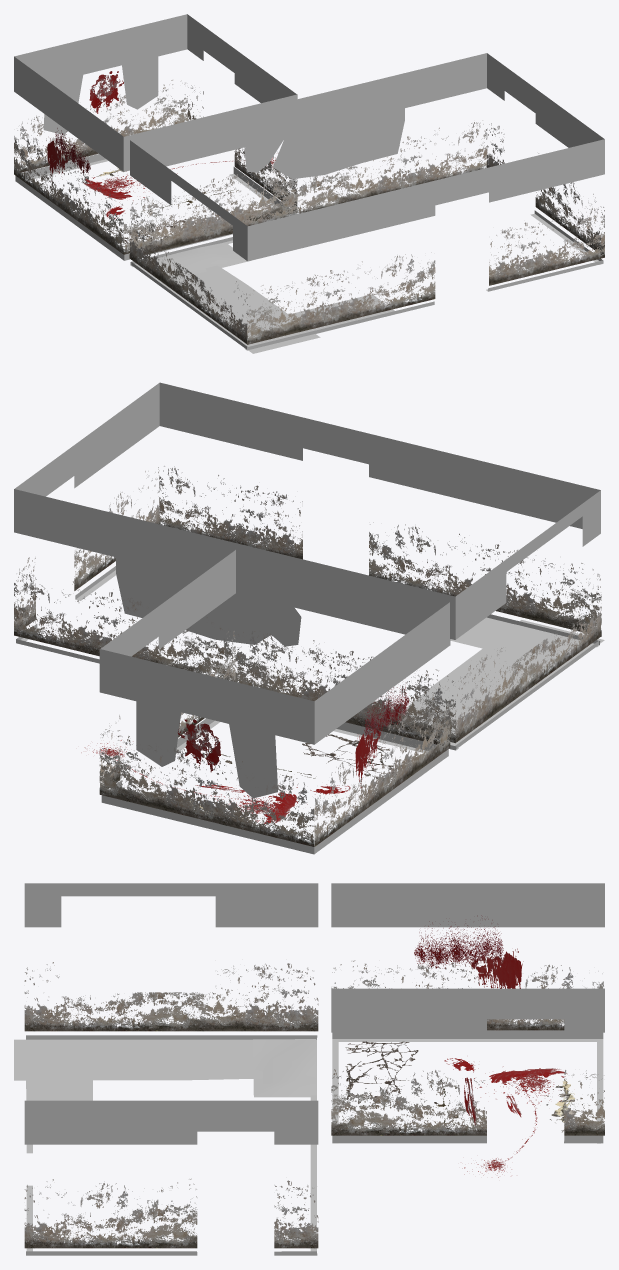
File: RoofArea02_Decals.FBX
3 renders of one model, top to bottom at view 1: azimuth 30°, elevation 25°; view 2: azimuth 150°, elevation 25°; view 3: azimuth 270°, elevation 25°, orthographic. The views are drawn at different scales.
Parts seen in each view (by area): view 1: RoofArea02_Decals; view 2: RoofArea02_Decals; view 3: RoofArea02_Decals.
Part boxes in pixels (<box>): RoofArea02_Decals: <box>14,14,604,353</box>; RoofArea02_Decals: <box>14,382,604,854</box>; RoofArea02_Decals: <box>14,883,604,1255</box>.
Bounding box in the file's own units: 839 × 279 × 959.
